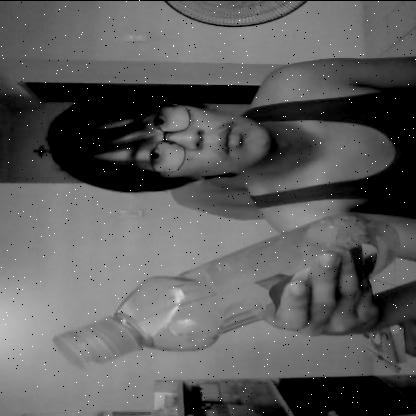Plastic Bottle: (47, 205, 399, 364)
